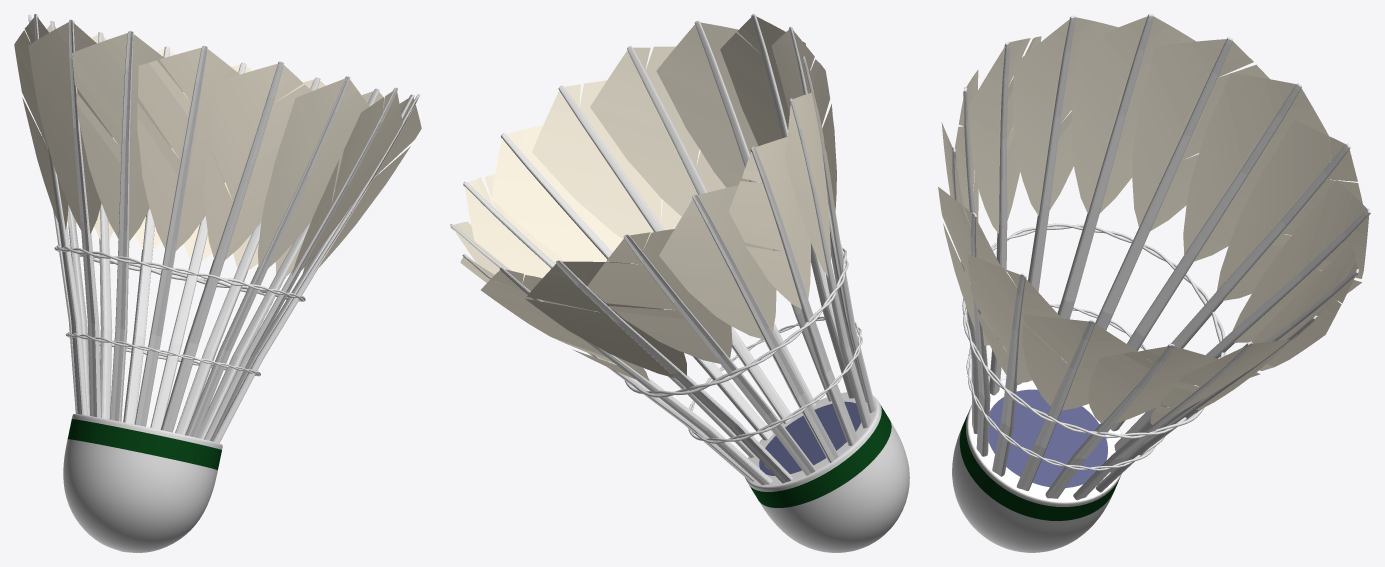
3 renders of one model, left to right at view 1: azimuth 30°, elevation 25°; view 2: azimuth 150°, elevation 25°; view 3: azimuth 270°, elevation 25°, orthographic. The views are drawn at different scales.
Visible parts, largest first — view 1: Shuttlecock; view 2: Shuttlecock; view 3: Shuttlecock.
Part boxes in pixels (<box>): Shuttlecock: <box>14,14,421,552</box>; Shuttlecock: <box>450,14,909,552</box>; Shuttlecock: <box>938,14,1370,552</box>.
Size of the model in its own units: 0.0842 by 0.1083 by 0.0792.
